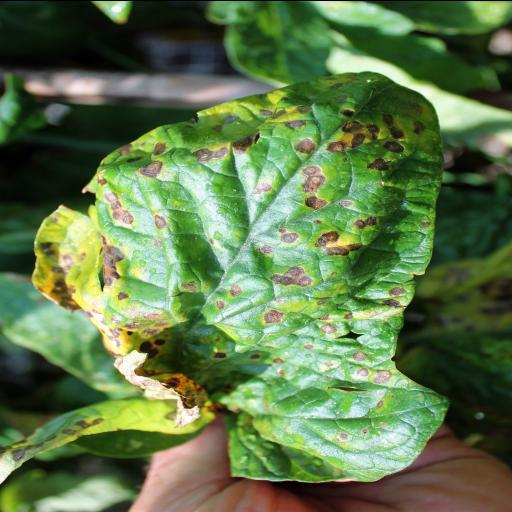disease_tomato: (30, 68, 458, 490)
